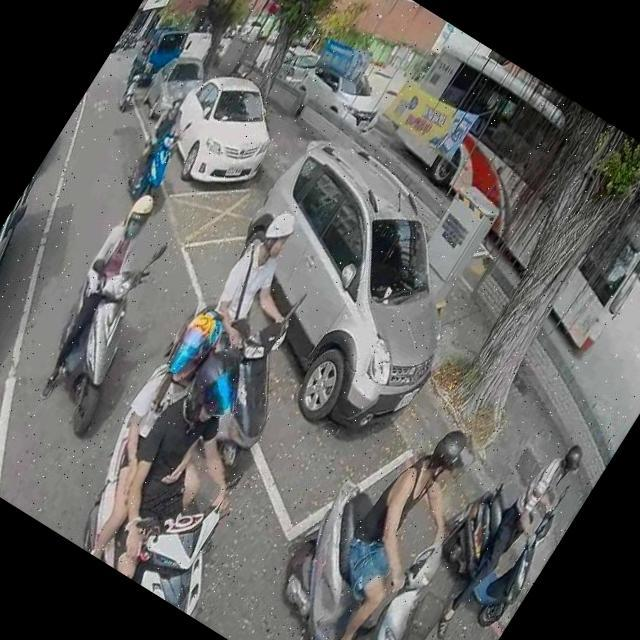person: (53, 287, 295, 587), (81, 334, 309, 607), (288, 406, 504, 640), (15, 180, 178, 405), (431, 431, 595, 640), (195, 198, 342, 368), (120, 91, 206, 202), (132, 52, 151, 74)
